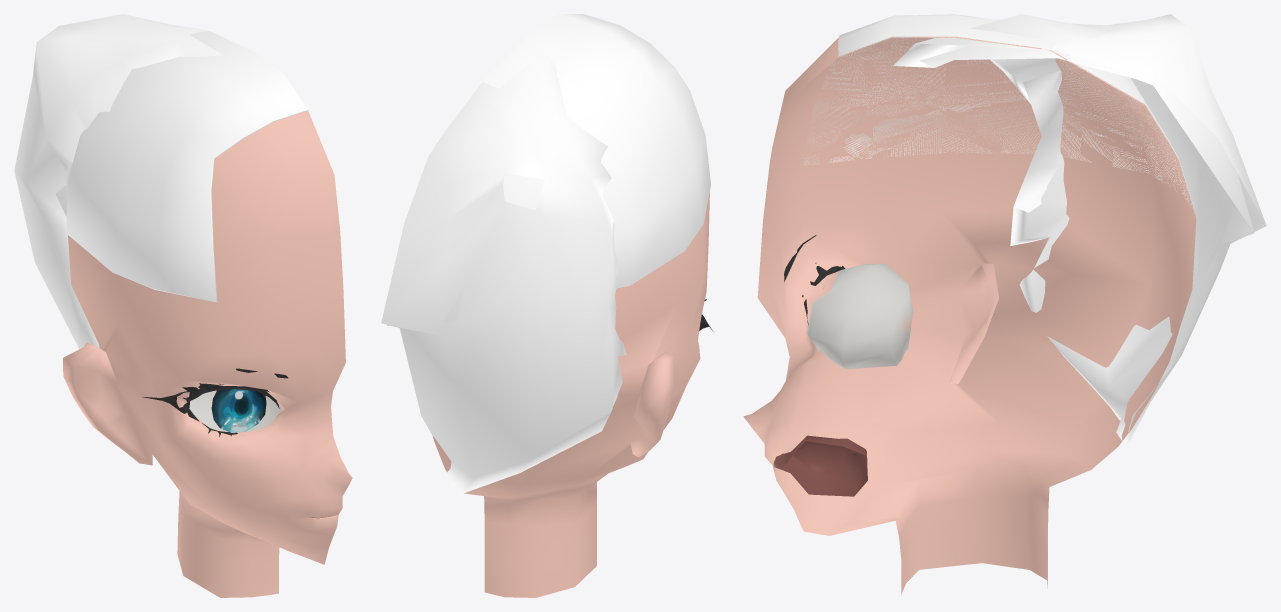
The model's file is MIKU4.glb.
3 renders of one model, left to right at view 1: azimuth 30°, elevation 25°; view 2: azimuth 150°, elevation 25°; view 3: azimuth 270°, elevation 25°, orthographic. The views are drawn at different scales.
Visible parts, largest first — view 1: Head, Head.002, Head.001, Vert.001, Vert.002; view 2: Head.001, Head, Head.002; view 3: Head, Head.001, Head.002.
Part boxes in pixels (x1,y1,x2,y2): Head: (63, 110, 352, 597); Head.002: (66, 31, 307, 302); Head.001: (14, 14, 224, 348); Vert.001: (211, 389, 266, 432); Vert.002: (142, 383, 279, 421); Head.001: (381, 50, 626, 492); Head: (432, 192, 709, 597); Head.002: (483, 14, 710, 287); Head: (743, 36, 1196, 595); Head.001: (893, 14, 1266, 444); Head.002: (804, 14, 1196, 217).
Bounding box in the file's own units: 0.2653 × 0.8206 × 0.6936.
Materials: 4 (3 with a texture image).
